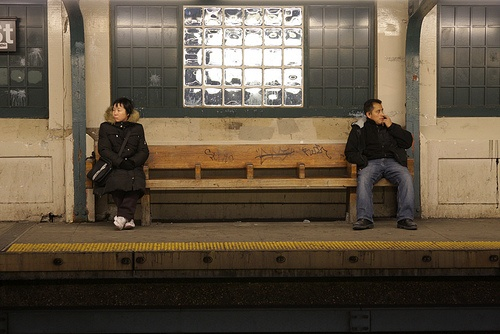head: (109, 95, 134, 126), (364, 99, 385, 124)
person: (344, 97, 416, 231), (91, 96, 147, 231)
